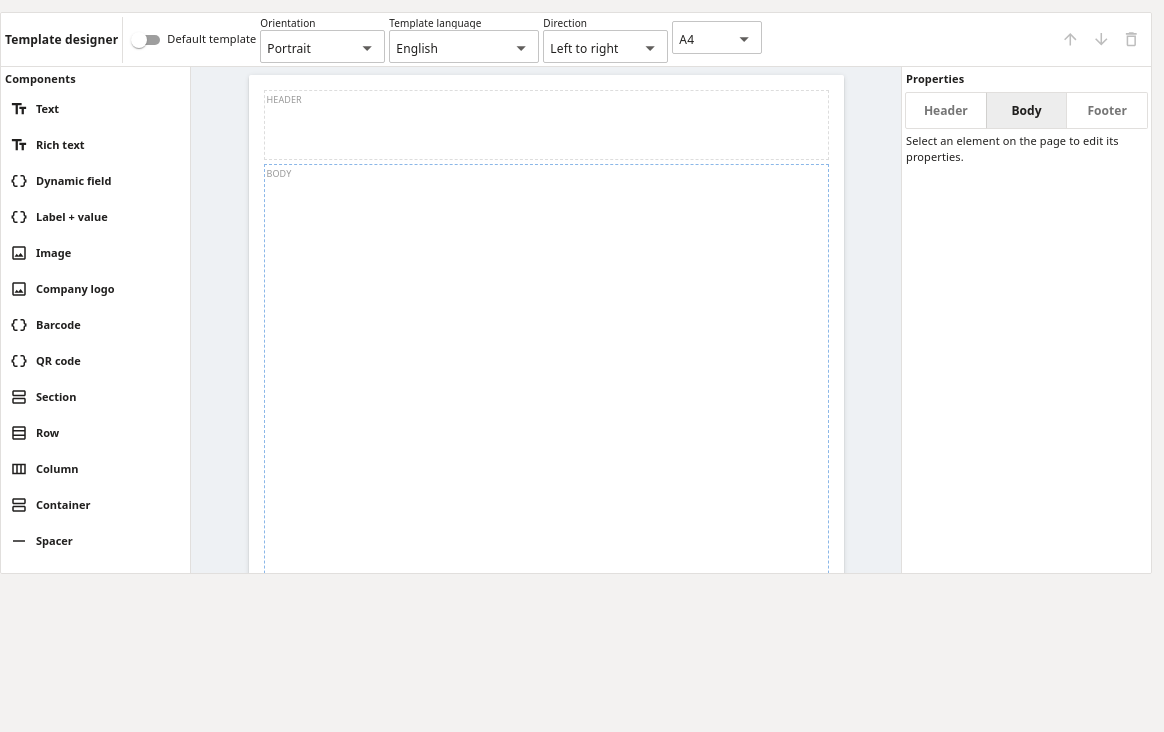
Scenario: WorkflowReportDesigner › adds child elements to a selected structured container
The image size is (1164, 732).
Click the button "Section" at [96, 396], box x1=4 y1=380 x2=187 y2=414
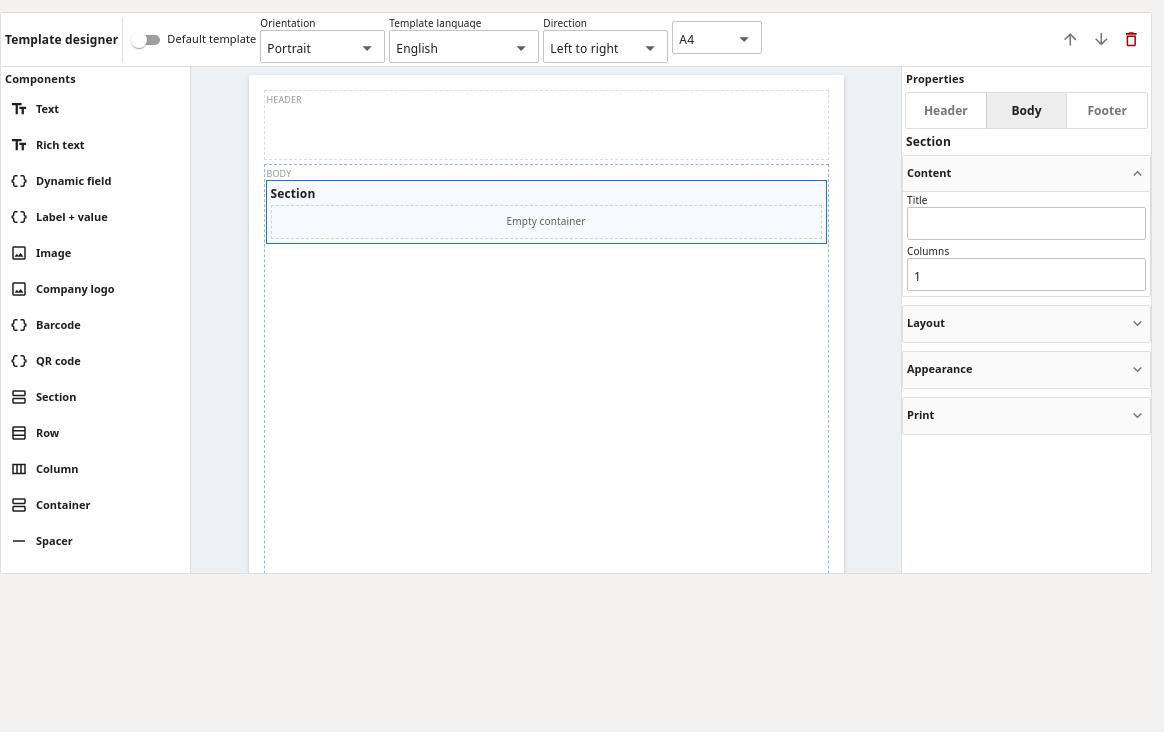
Click the button "Dynamic field" at [96, 180], box x1=4 y1=164 x2=187 y2=198
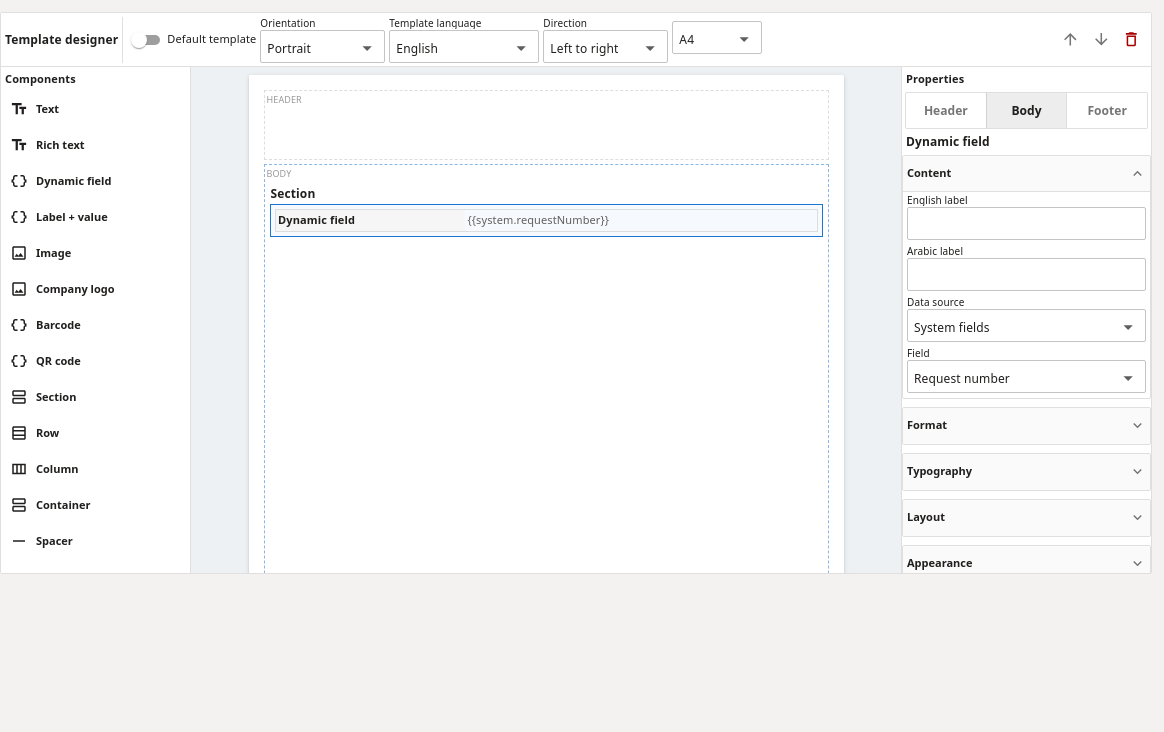
expect the element with test id "template-element-section" is shown: met, box x1=266 y1=180 x2=826 y2=240
expect the element with test id "template-element-field" is shown: met, box x1=270 y1=204 x2=822 y2=236
expect the text "{{system.requestNumber}}" is shown: met, box x1=467 y1=212 x2=609 y2=227
